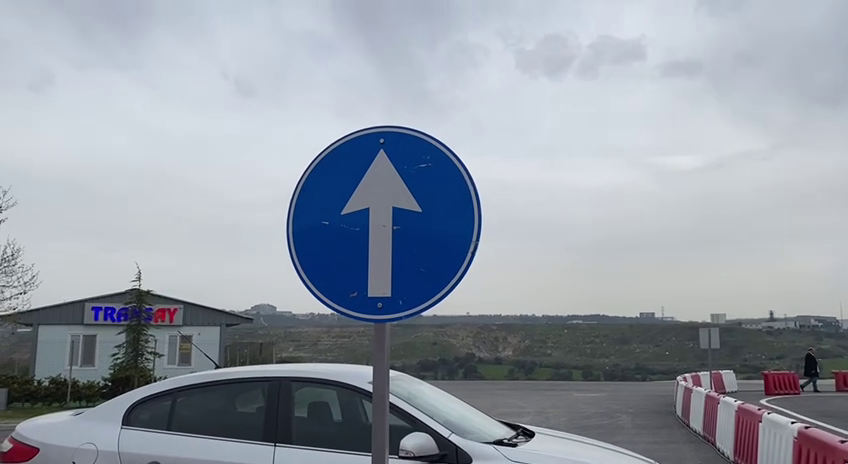forward: (280, 120, 488, 325)
